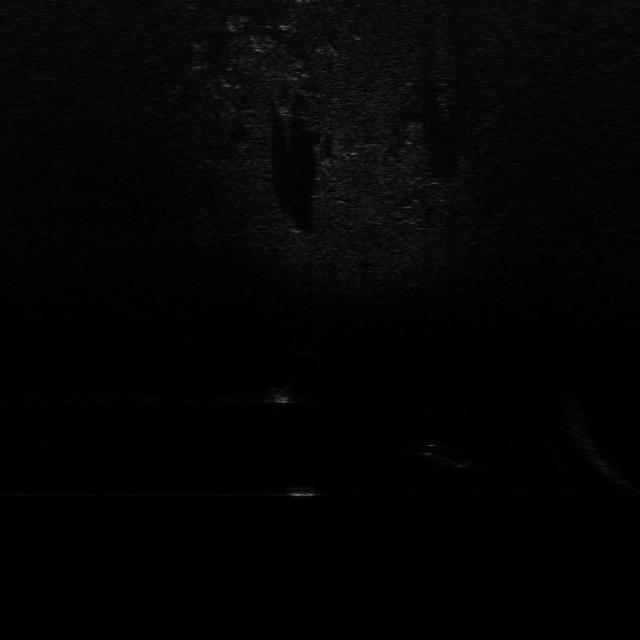cube: (282, 481, 322, 500)
square cage: (260, 384, 300, 406)
tyre: (418, 440, 477, 470)
